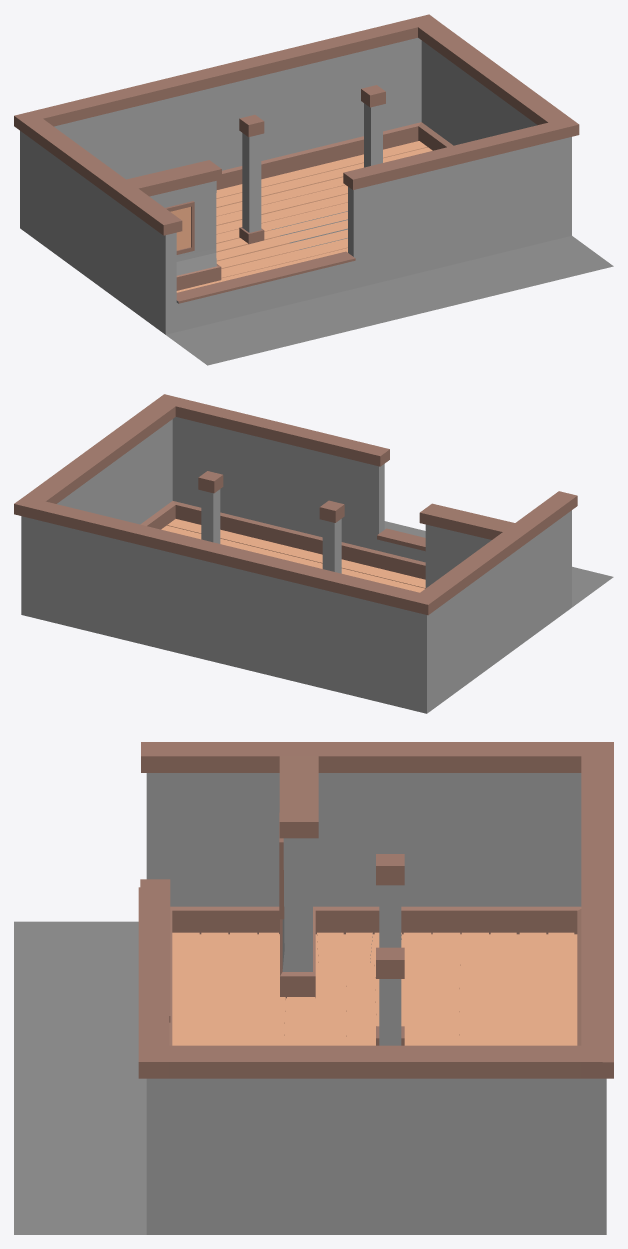
Rendered from Construction.fbx.
The picture shows the model from 3 angles, top to bottom: view 1: azimuth 30°, elevation 25°; view 2: azimuth 150°, elevation 25°; view 3: azimuth 270°, elevation 25°; orthographic projection. The views are drawn at different scales.
Parts seen in each view (by area): view 1: Construction; view 2: Construction; view 3: Construction.
Part boxes in pixels (x1,y1,x2,y2): Construction: (14,14,613,365); Construction: (14,394,613,713); Construction: (14,742,613,1234).
Bounding box in the file's own units: 1220 × 341 × 966.
